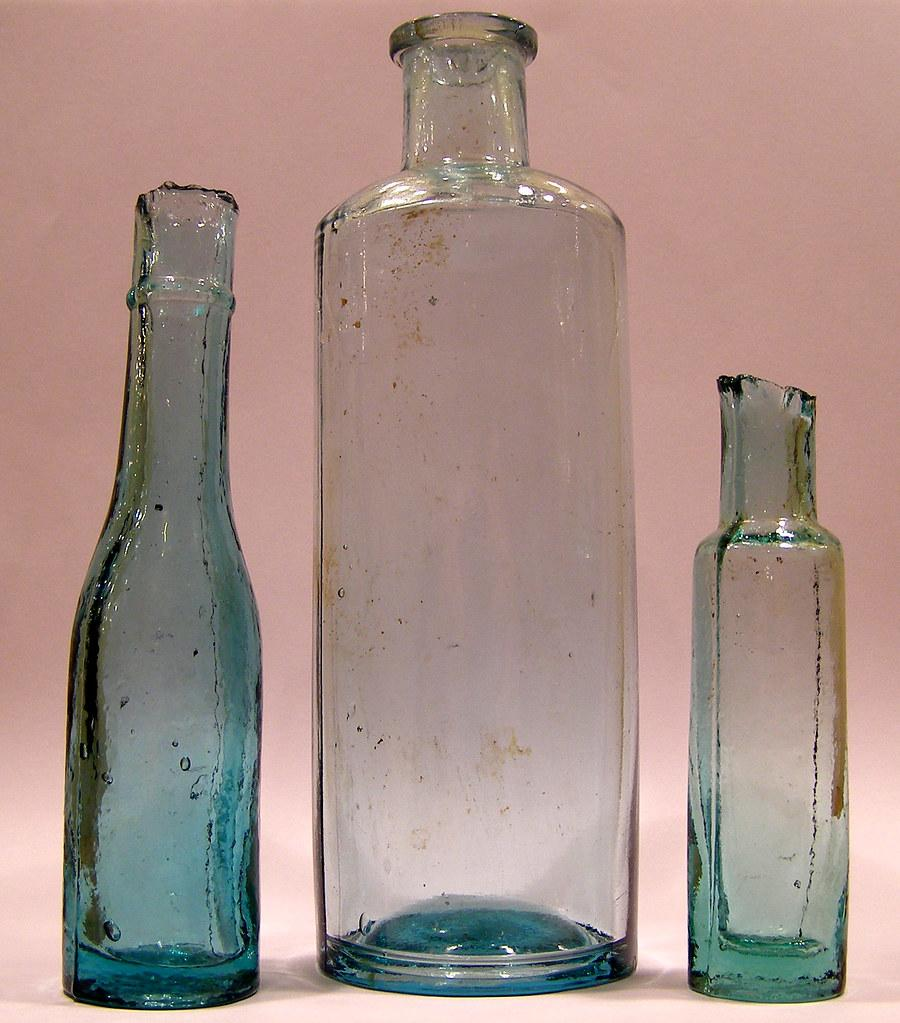bottle: (312, 11, 641, 997), (62, 181, 264, 1011), (687, 373, 851, 1004)
